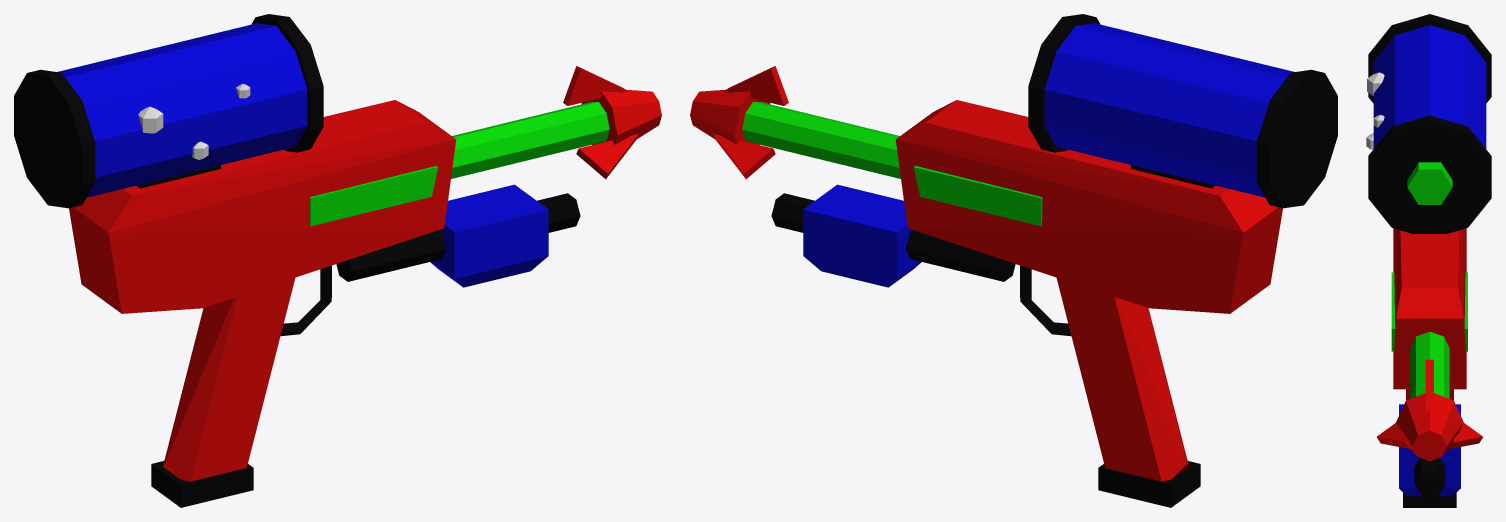
Rendered from SM_TN_PistolaTinta.fbx.
The picture shows the model from 3 angles, left to right: view 1: azimuth 30°, elevation 25°; view 2: azimuth 150°, elevation 25°; view 3: azimuth 270°, elevation 25°; orthographic projection. The views are drawn at different scales.
Parts seen in each view (by area): view 1: SM_TN_PistolaTinta; view 2: SM_TN_PistolaTinta; view 3: SM_TN_PistolaTinta.
Part boxes in pixels (x1,y1,x2,y2): SM_TN_PistolaTinta: (14, 14, 661, 507); SM_TN_PistolaTinta: (690, 14, 1337, 507); SM_TN_PistolaTinta: (1366, 14, 1491, 507).
Bounding box in the file's own units: 45 × 32 × 8.88.
